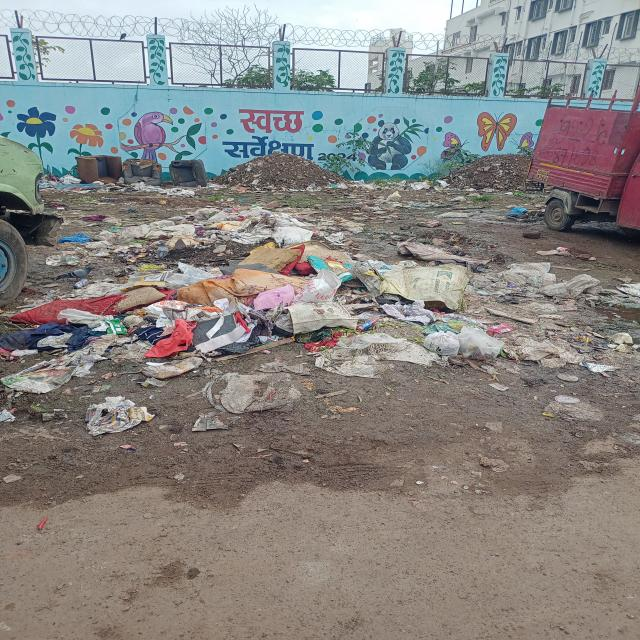garbage: (13, 155, 336, 392), (344, 228, 587, 374), (449, 153, 528, 193), (355, 193, 440, 217), (354, 177, 451, 191), (500, 201, 548, 226)
